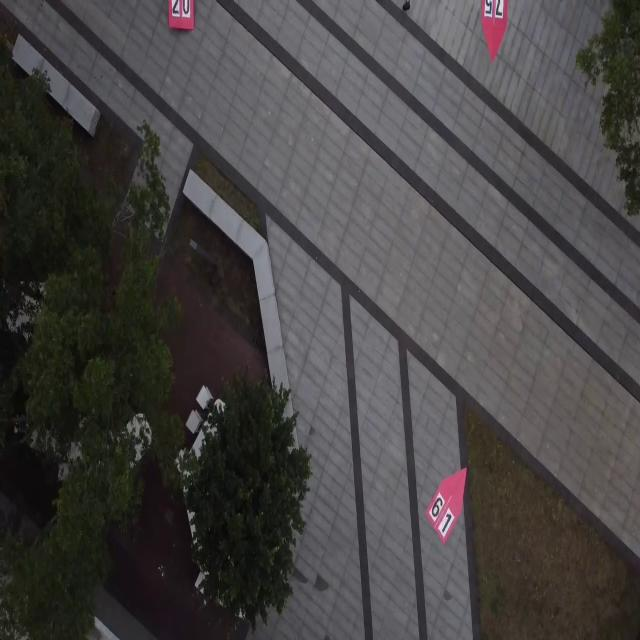-sign-: (425, 466, 467, 545), (481, 0, 508, 62), (168, 0, 194, 29)
